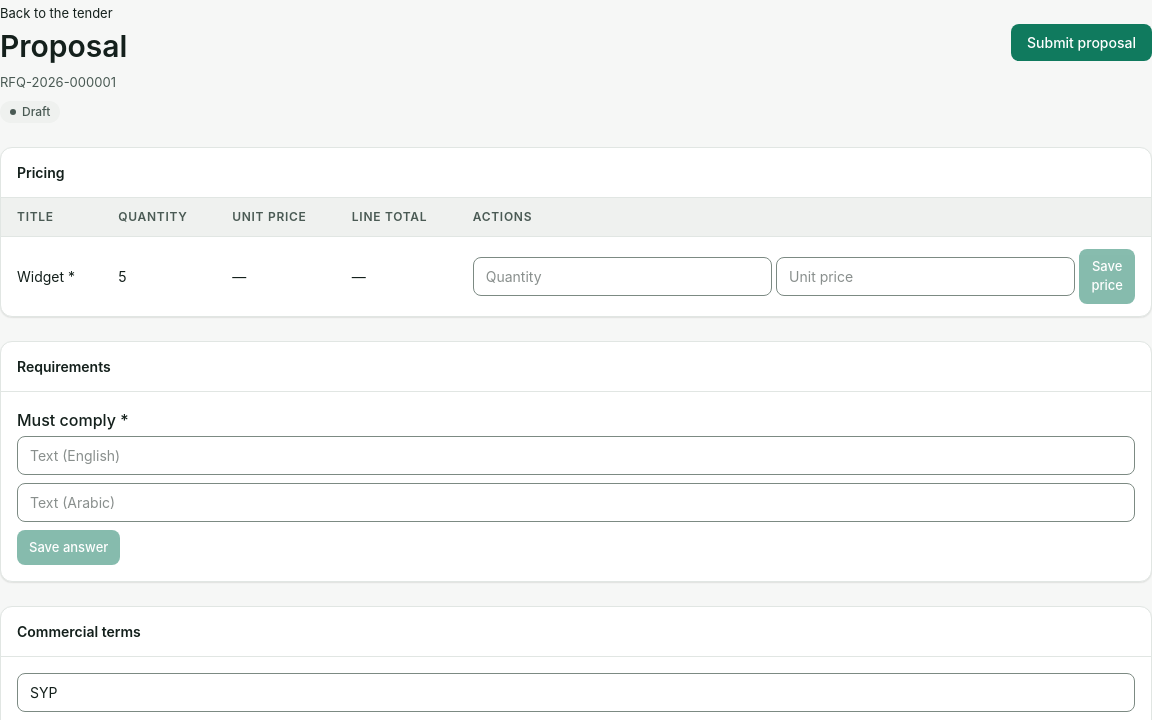
Test case: SupplierProposalPage › Draft: shows the RFQ item for pricing, and saving a price shows a success toast
The image size is (1152, 720).
Expected: the text "Widget" is shown, [17,268,64,284]
Type "5" into the number field named "Unit price - Widget".
click(926, 276); type("5")  # box [776,256,1075,296]
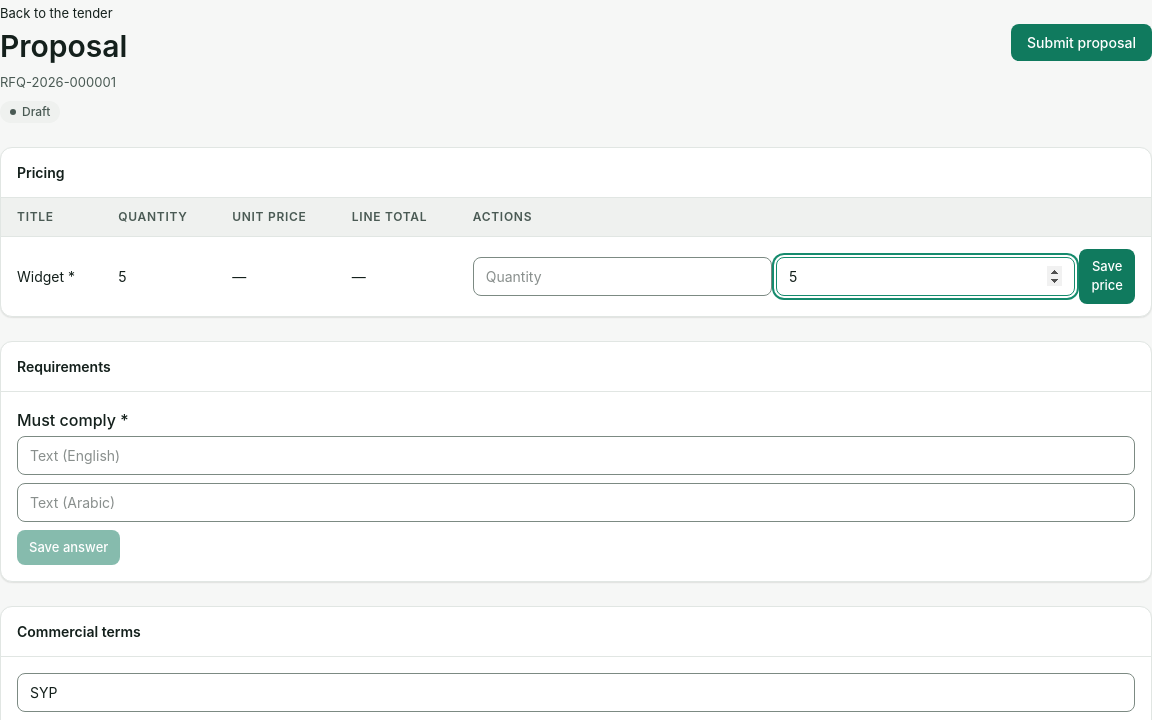
Click the button "Save price".
click(1107, 276)  # box [1079,248,1135,304]
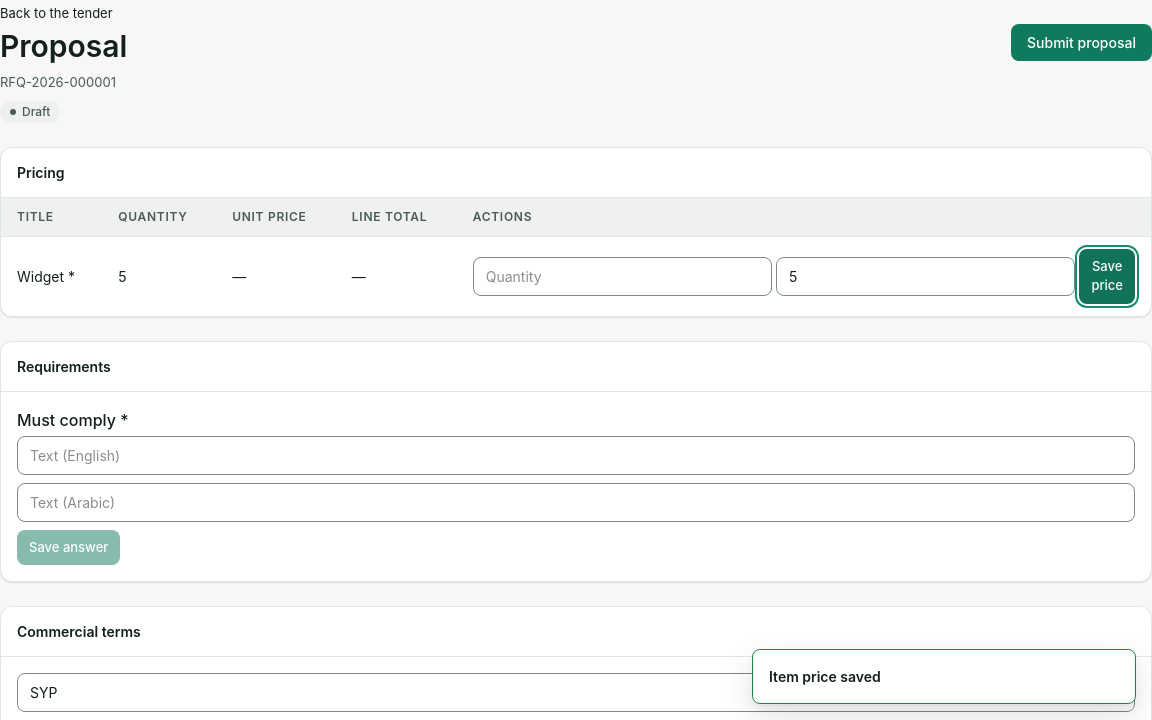
Expected: the text "Item price saved" is shown, [769,668,881,685]
